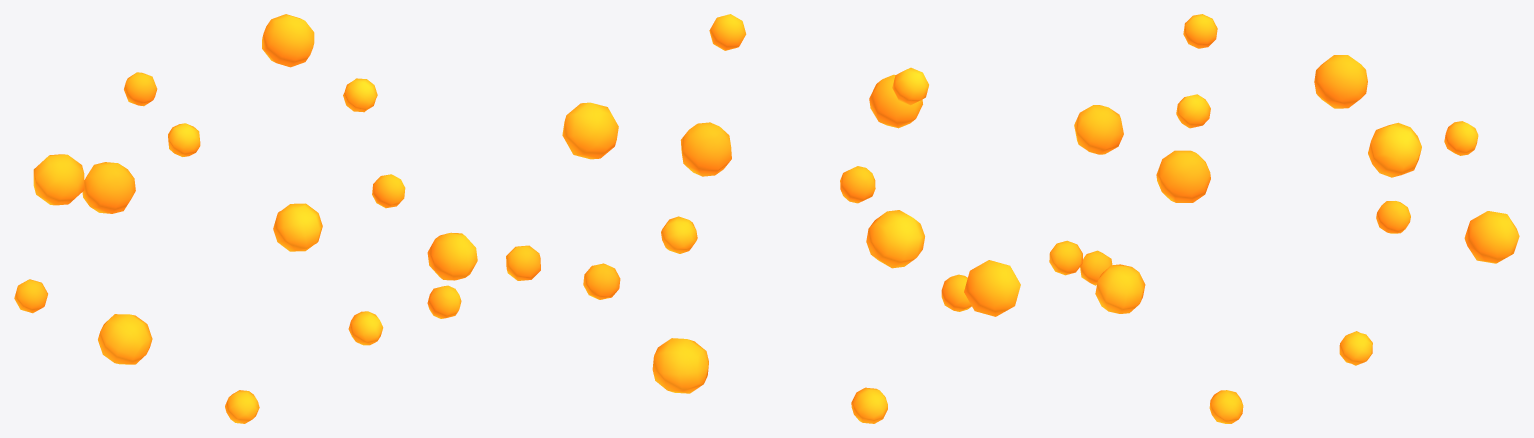
File: bush 03_toon_material_secondary_0.001.glb
The picture shows the model from 3 angles, left to right: view 1: azimuth 30°, elevation 25°; view 2: azimuth 150°, elevation 25°; view 3: azimuth 270°, elevation 25°; orthographic projection. The views are drawn at different scales.
Visible parts, largest first — view 1: bush 03_toon_material_secondary_0.001; view 2: bush 03_toon_material_secondary_0.001; view 3: bush 03_toon_material_secondary_0.001.
Boxes of the visible parts, x1,y1,x2,y2 form: bush 03_toon_material_secondary_0.001: (14, 14, 477, 423); bush 03_toon_material_secondary_0.001: (506, 14, 1020, 423); bush 03_toon_material_secondary_0.001: (1049, 14, 1519, 423).
Bounding box in the file's own units: 1.77 × 1.2 × 1.85.
Materials: 1 (1 with a texture image).
